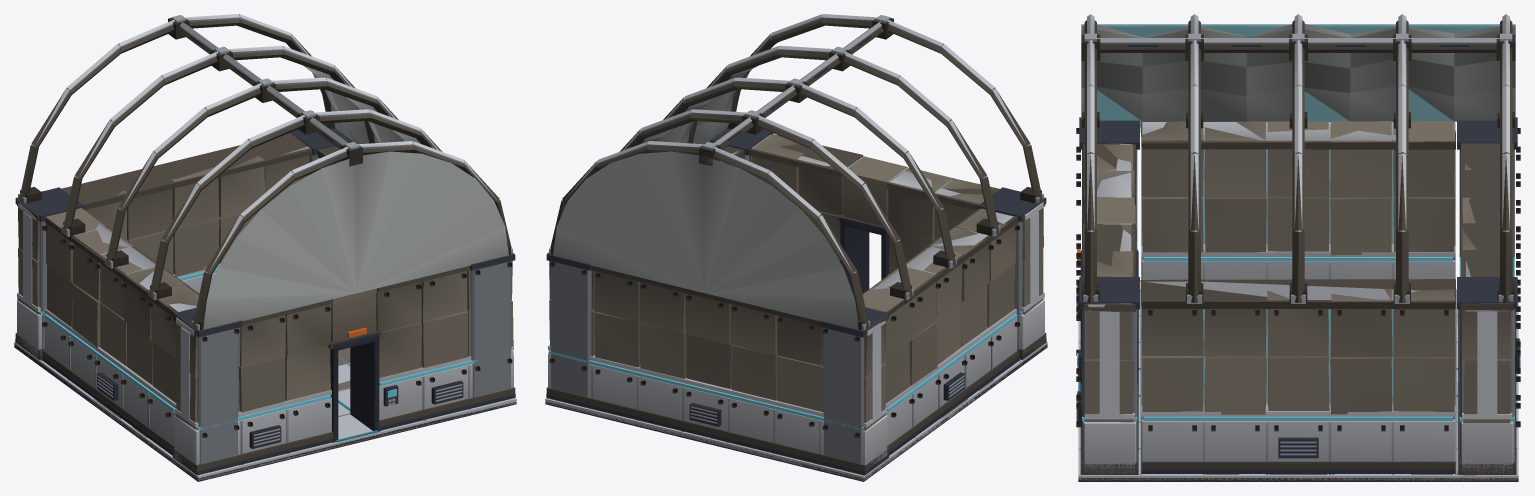
The model's file is greenhouse.glb.
3 renders of one model, left to right at view 1: azimuth 30°, elevation 25°; view 2: azimuth 150°, elevation 25°; view 3: azimuth 270°, elevation 25°, orthographic. The views are drawn at different scales.
Parts seen in each view (by area): view 1: body_glass_low, body_wallS_high, body_wallS_low, body_wallN_low, body_frame_low, body_wallW_low, body_frame_high, body_wallW_high, body_wallN_high, body_floor_high, body_floor_low, lit_wallS_high (+1 smaller); view 2: body_glass_low, body_wallN_low, body_wallN_high, body_frame_low, body_wallW_low, body_wallS_low, body_frame_high, body_wallS_high, body_wallW_high, body_floor_high, lit_wallN_high, body_floor_low (+1 smaller); view 3: body_wallE_low, body_wallW_low, body_glass_low, body_wallE_high, body_frame_low, body_frame_high, body_wallS_high, body_wallN_low, body_wallN_high, body_wallS_low, body_wallW_high, body_floor_high (+6 smaller).
Boxes of the visible parts, x1,y1,x2,y2 form: body_glass_low: [203, 65, 508, 329]; body_wallS_high: [173, 253, 515, 475]; body_wallS_low: [173, 261, 515, 474]; body_wallN_low: [15, 133, 313, 359]; body_frame_low: [18, 15, 511, 329]; body_wallW_low: [42, 208, 206, 451]; body_frame_high: [18, 14, 512, 330]; body_wallW_high: [42, 224, 196, 455]; body_wallN_high: [15, 128, 352, 359]; body_floor_high: [14, 342, 516, 481]; body_floor_low: [14, 344, 516, 480]; lit_wallS_high: [196, 327, 513, 442]; body_glass_low: [553, 42, 858, 329]; body_wallN_low: [546, 252, 888, 471]; body_wallN_high: [546, 253, 888, 475]; body_frame_low: [550, 15, 1043, 329]; body_wallW_low: [855, 208, 1019, 451]; body_wallS_low: [748, 134, 1046, 355]; body_frame_high: [549, 14, 1043, 330]; body_wallS_high: [710, 128, 1046, 359]; body_wallW_high: [870, 212, 1019, 455]; body_floor_high: [545, 342, 1047, 481]; lit_wallN_high: [548, 350, 886, 430]; body_floor_low: [546, 344, 1047, 480]; body_wallE_low: [1140, 279, 1455, 469]; body_wallW_low: [1140, 121, 1455, 260]; body_glass_low: [1081, 23, 1515, 121]; body_wallE_high: [1141, 281, 1455, 473]; body_frame_low: [1081, 20, 1515, 303]; body_frame_high: [1083, 14, 1513, 303]; body_wallS_high: [1076, 117, 1139, 474]; body_wallN_low: [1459, 128, 1520, 475]; body_wallN_high: [1457, 117, 1520, 474]; body_wallS_low: [1076, 128, 1137, 474]; body_wallW_high: [1141, 122, 1455, 279]; body_floor_high: [1078, 289, 1518, 481].
Bounding box in the file's own units: 7.06 × 6.18 × 7.06.
